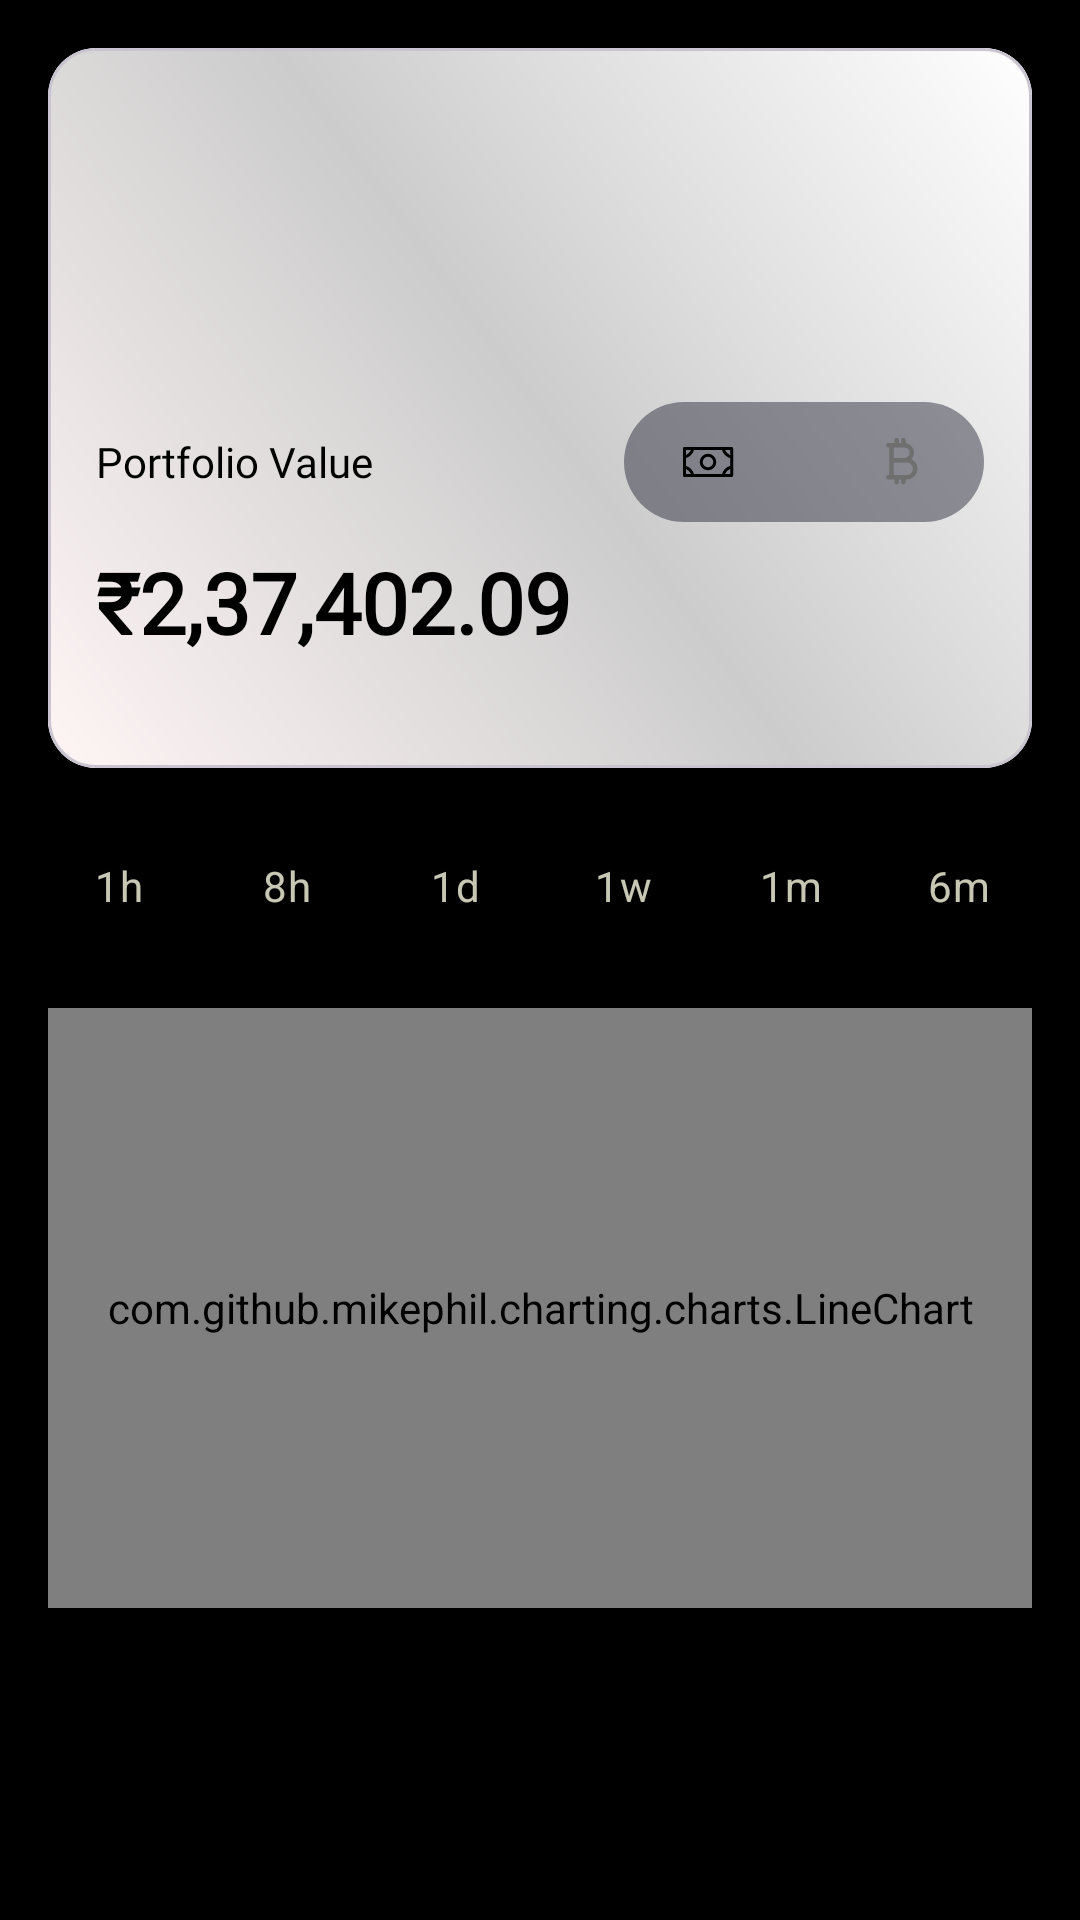

Icons on this 1080×1920 Android screen, each with its box as (x1=x1, y1=y1, x2=x2, y2=y2):
money: (x1=624, y1=402, x2=792, y2=522)
